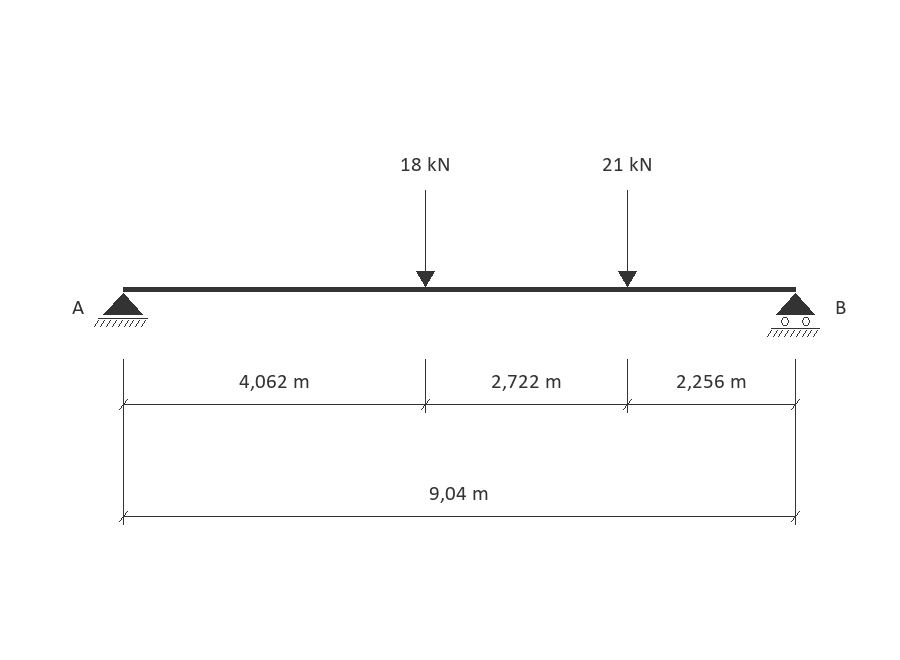pin_support: (94, 293, 148, 327)
point_load: (416, 190, 435, 287), (618, 190, 637, 287)
roller_support: (767, 293, 820, 337)
